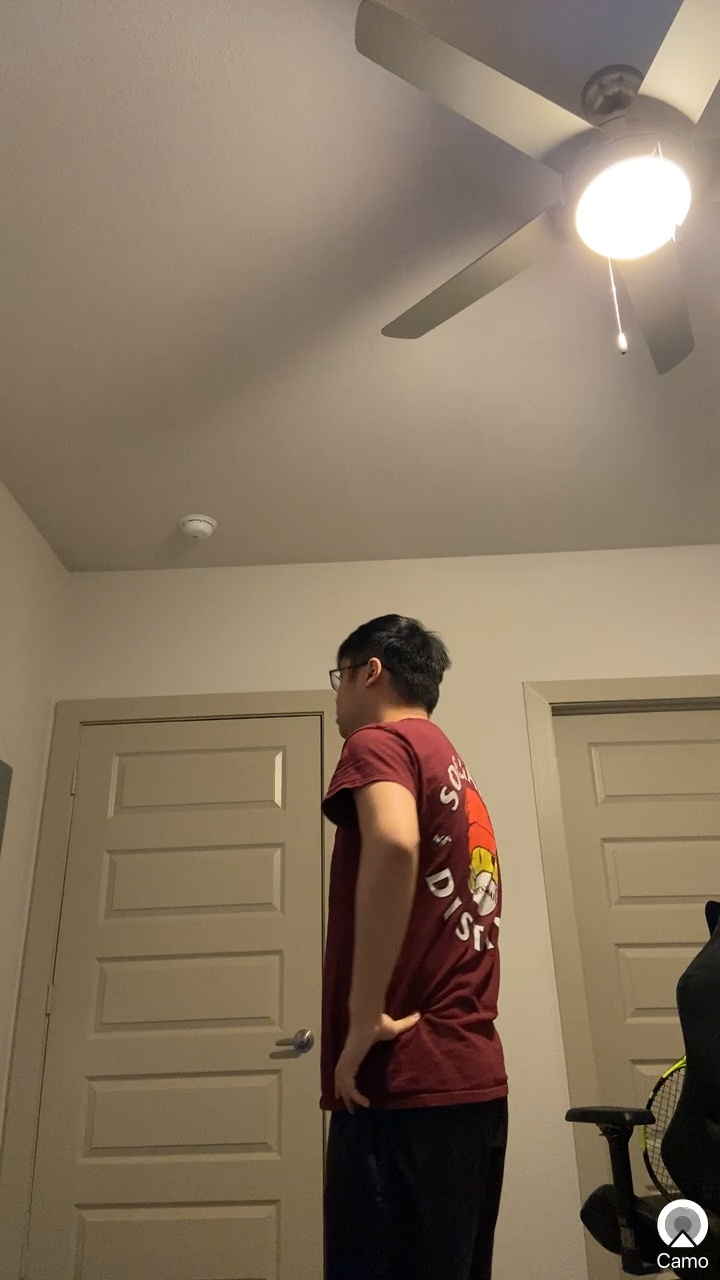Person: (266, 598, 541, 1280)
